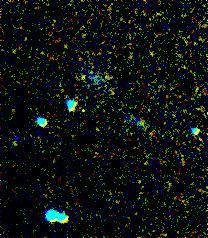star: (70, 97, 100, 127)
